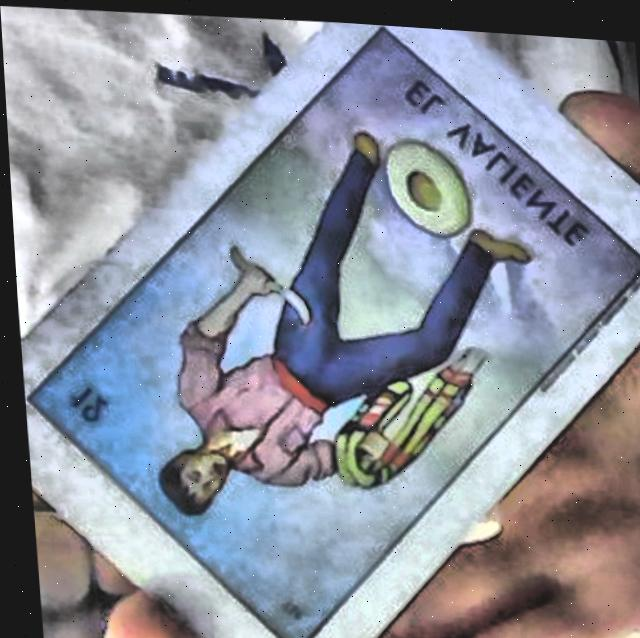El Valiente: (25, 29, 640, 638)
